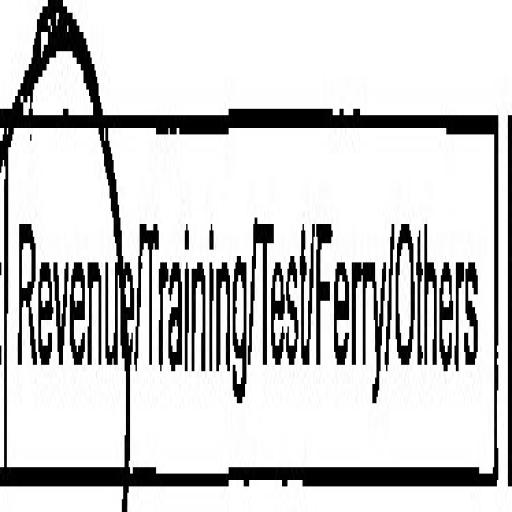check: (0, 0, 138, 512)
